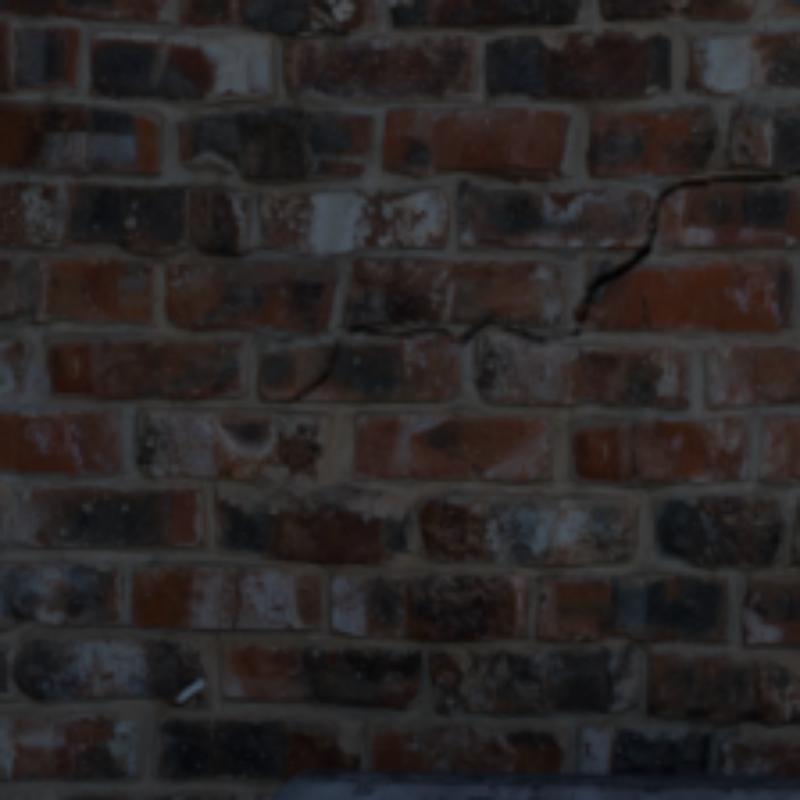crack: (271, 168, 796, 404), (229, 568, 246, 629), (632, 421, 639, 479)
